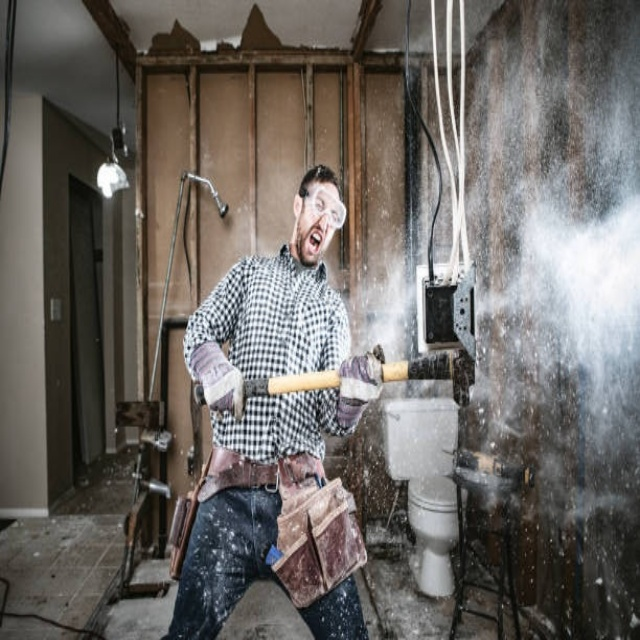Gafas: (299, 187, 347, 230)
Guantes: (190, 341, 244, 419), (336, 352, 383, 429)
Sin_mascara: (302, 226, 326, 260)
